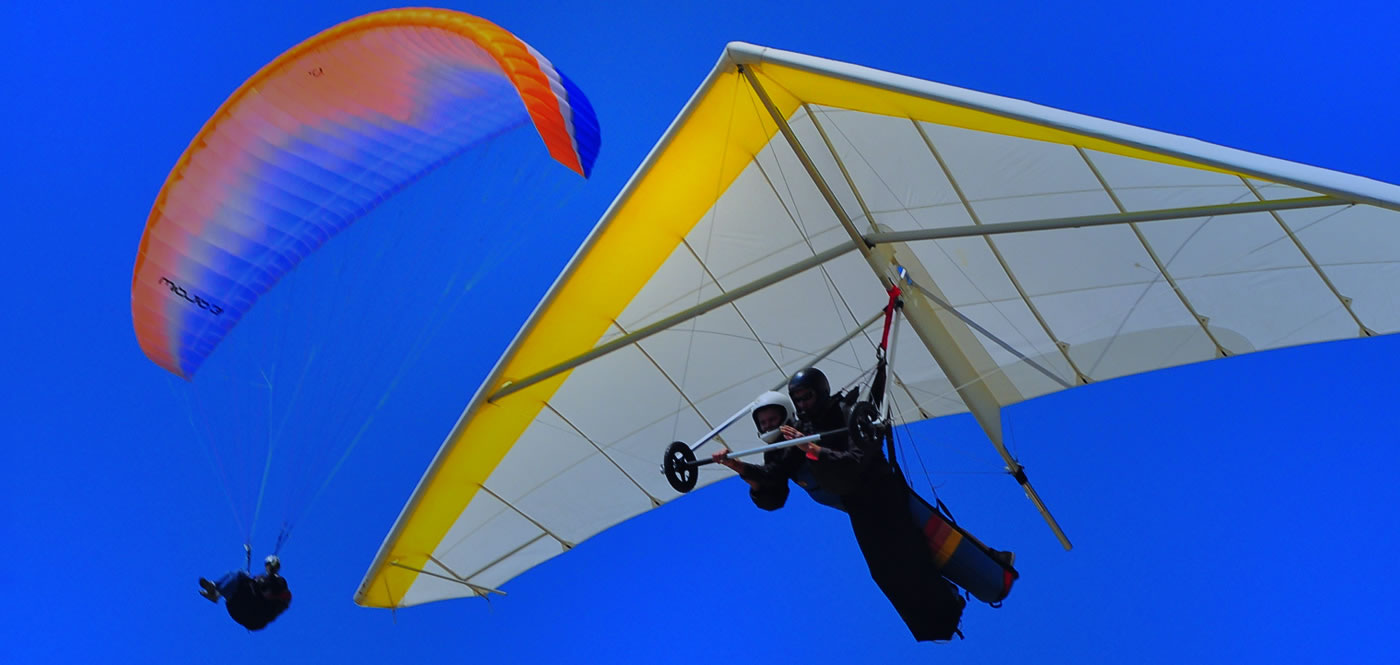Paraglider: (125, 48, 608, 362)
